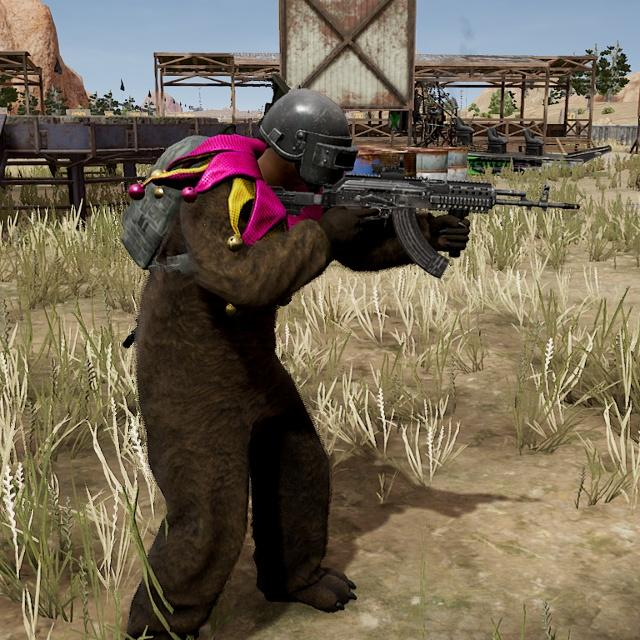head: (254, 85, 359, 195)
people: (102, 79, 409, 640)
